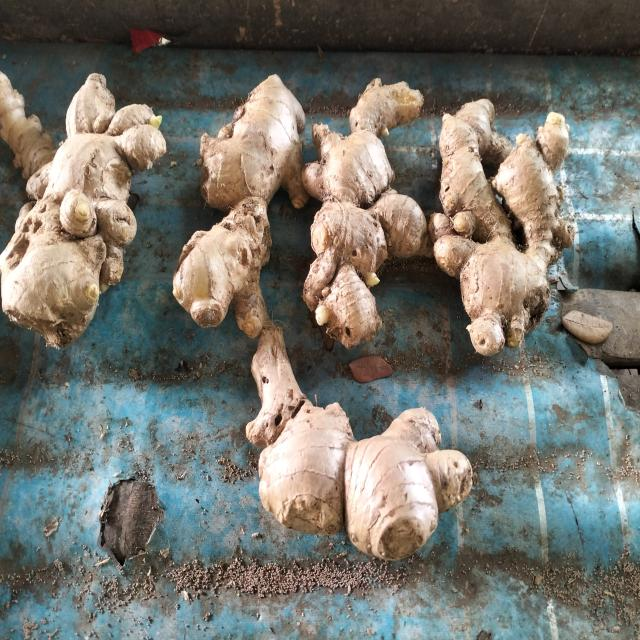ginger: (0, 59, 169, 355), (252, 330, 465, 541), (424, 71, 564, 340), (170, 55, 296, 337), (315, 78, 426, 334)
